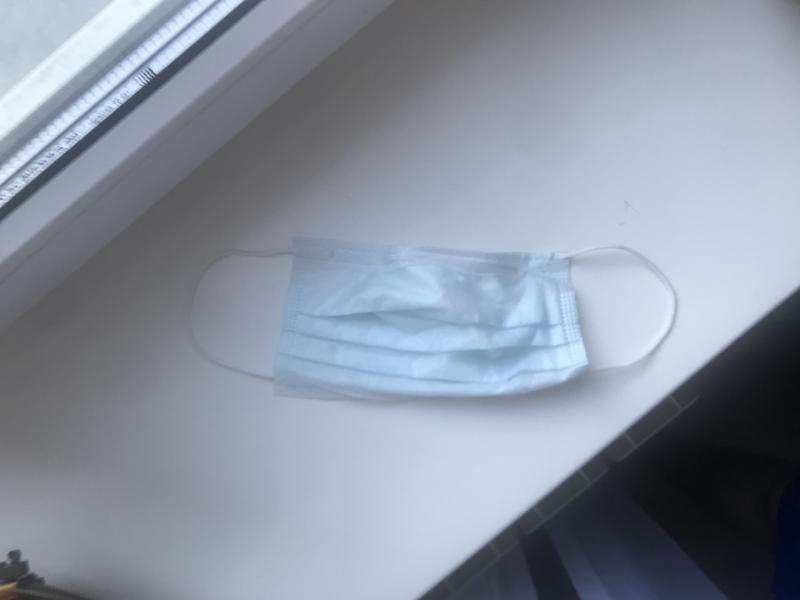medical_mask: (185, 236, 678, 397)
